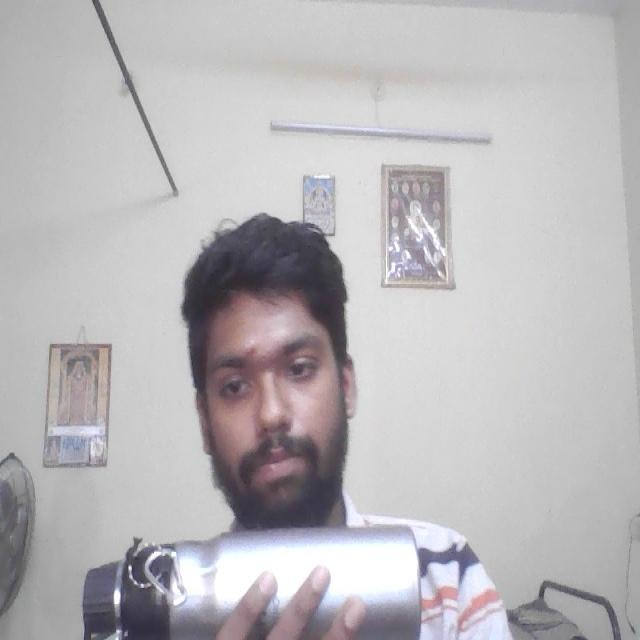Drinking: (74, 519, 427, 636)
